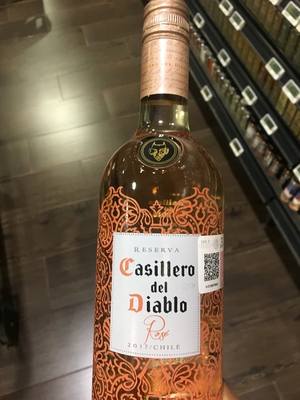casillero del diablo rose: (92, 21, 233, 398)
